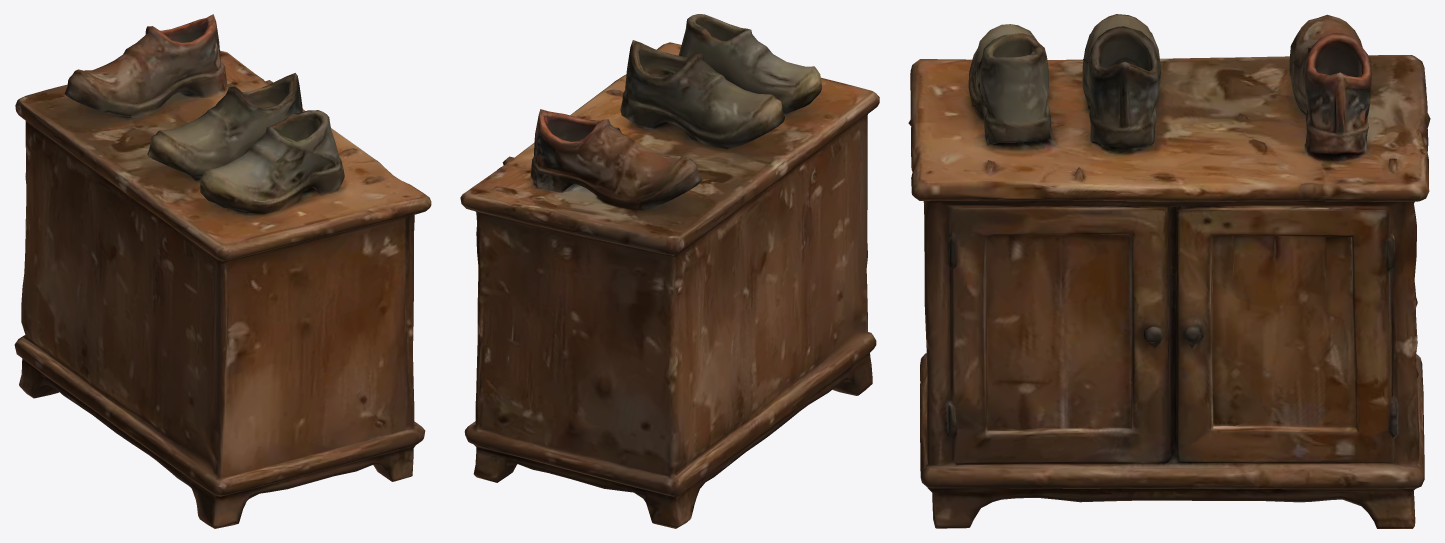
The model's file is shoes.glb.
The picture shows the model from 3 angles, left to right: view 1: azimuth 30°, elevation 25°; view 2: azimuth 150°, elevation 25°; view 3: azimuth 270°, elevation 25°; orthographic projection. The views are drawn at different scales.
Parts seen in each view (by area): view 1: tripo_node_8b7f2906-6cf6-4b23-91d6-d066453f2a0c; view 2: tripo_node_8b7f2906-6cf6-4b23-91d6-d066453f2a0c; view 3: tripo_node_8b7f2906-6cf6-4b23-91d6-d066453f2a0c.
Boxes of the visible parts, bbox=[...] form: tripo_node_8b7f2906-6cf6-4b23-91d6-d066453f2a0c: bbox=[14, 14, 431, 528]; tripo_node_8b7f2906-6cf6-4b23-91d6-d066453f2a0c: bbox=[460, 14, 879, 528]; tripo_node_8b7f2906-6cf6-4b23-91d6-d066453f2a0c: bbox=[908, 14, 1430, 528].
Size of the model in its own units: 0.5965 by 0.9486 by 1.
1 material, 1 textured.
